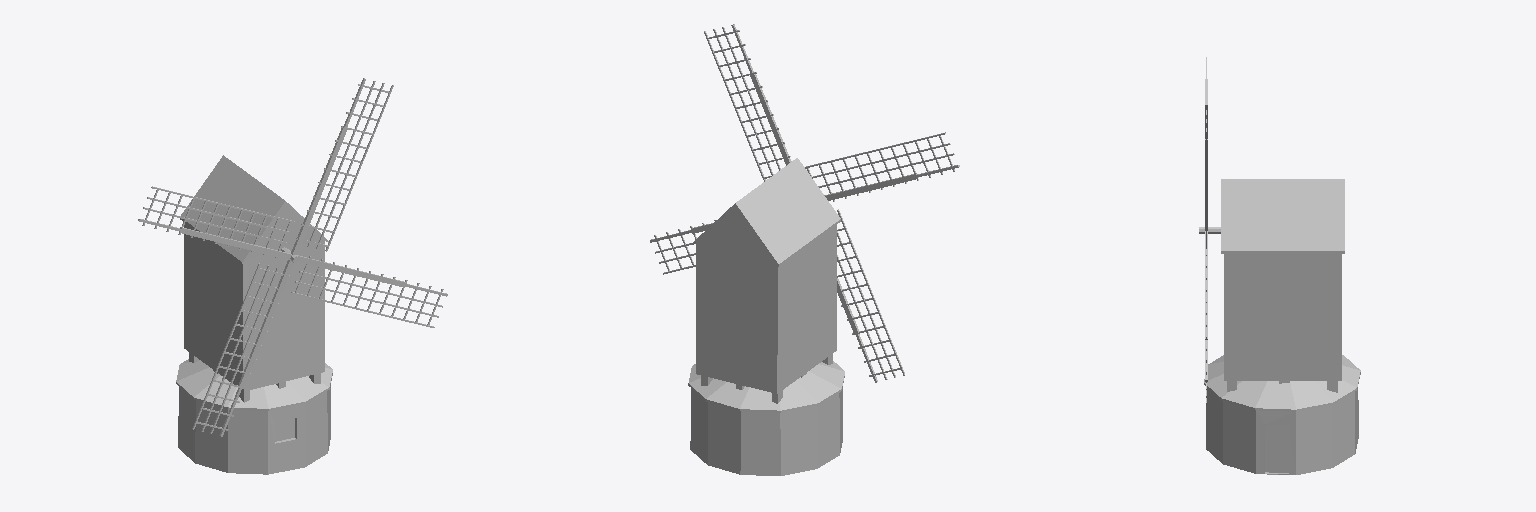
Rendered from windmill2.obj.
3 views of the same model, side by side, from view 1: azimuth 30°, elevation 25°; view 2: azimuth 150°, elevation 25°; view 3: azimuth 270°, elevation 25° (orthographic).
Parts seen in each view (by area): view 1: WindMill; view 2: WindMill; view 3: WindMill.
Part boxes in pixels (x1,y1,x2,y2): WindMill: (138, 78, 447, 474); WindMill: (650, 24, 959, 475); WindMill: (1199, 57, 1360, 474).
Bounding box in the file's own units: 4.21 × 4.87 × 1.91.